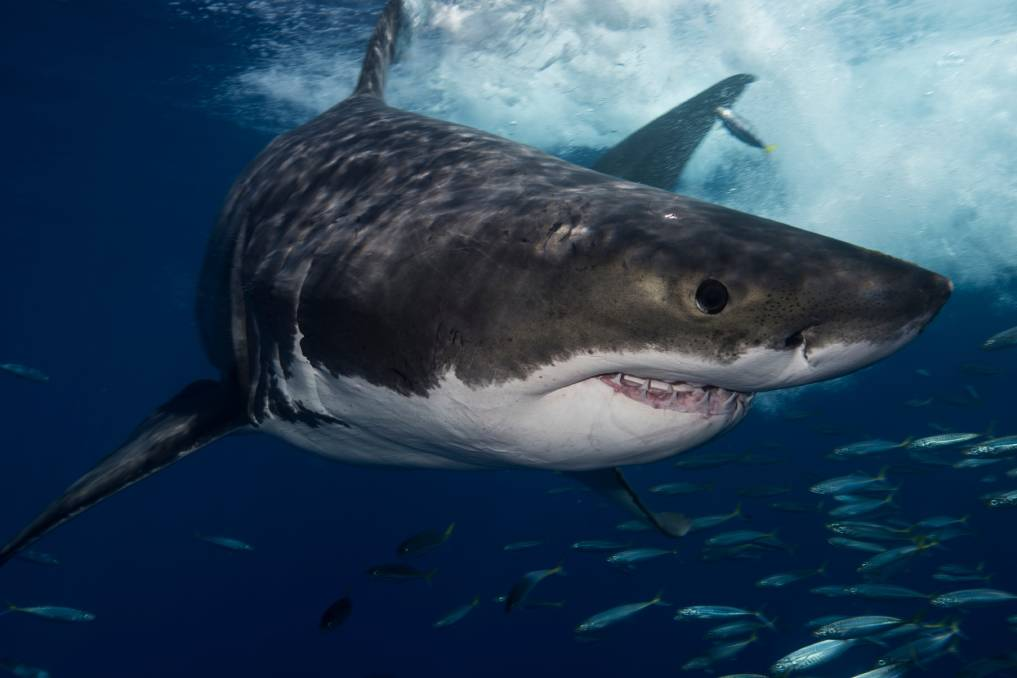shark: (1, 16, 971, 559)
